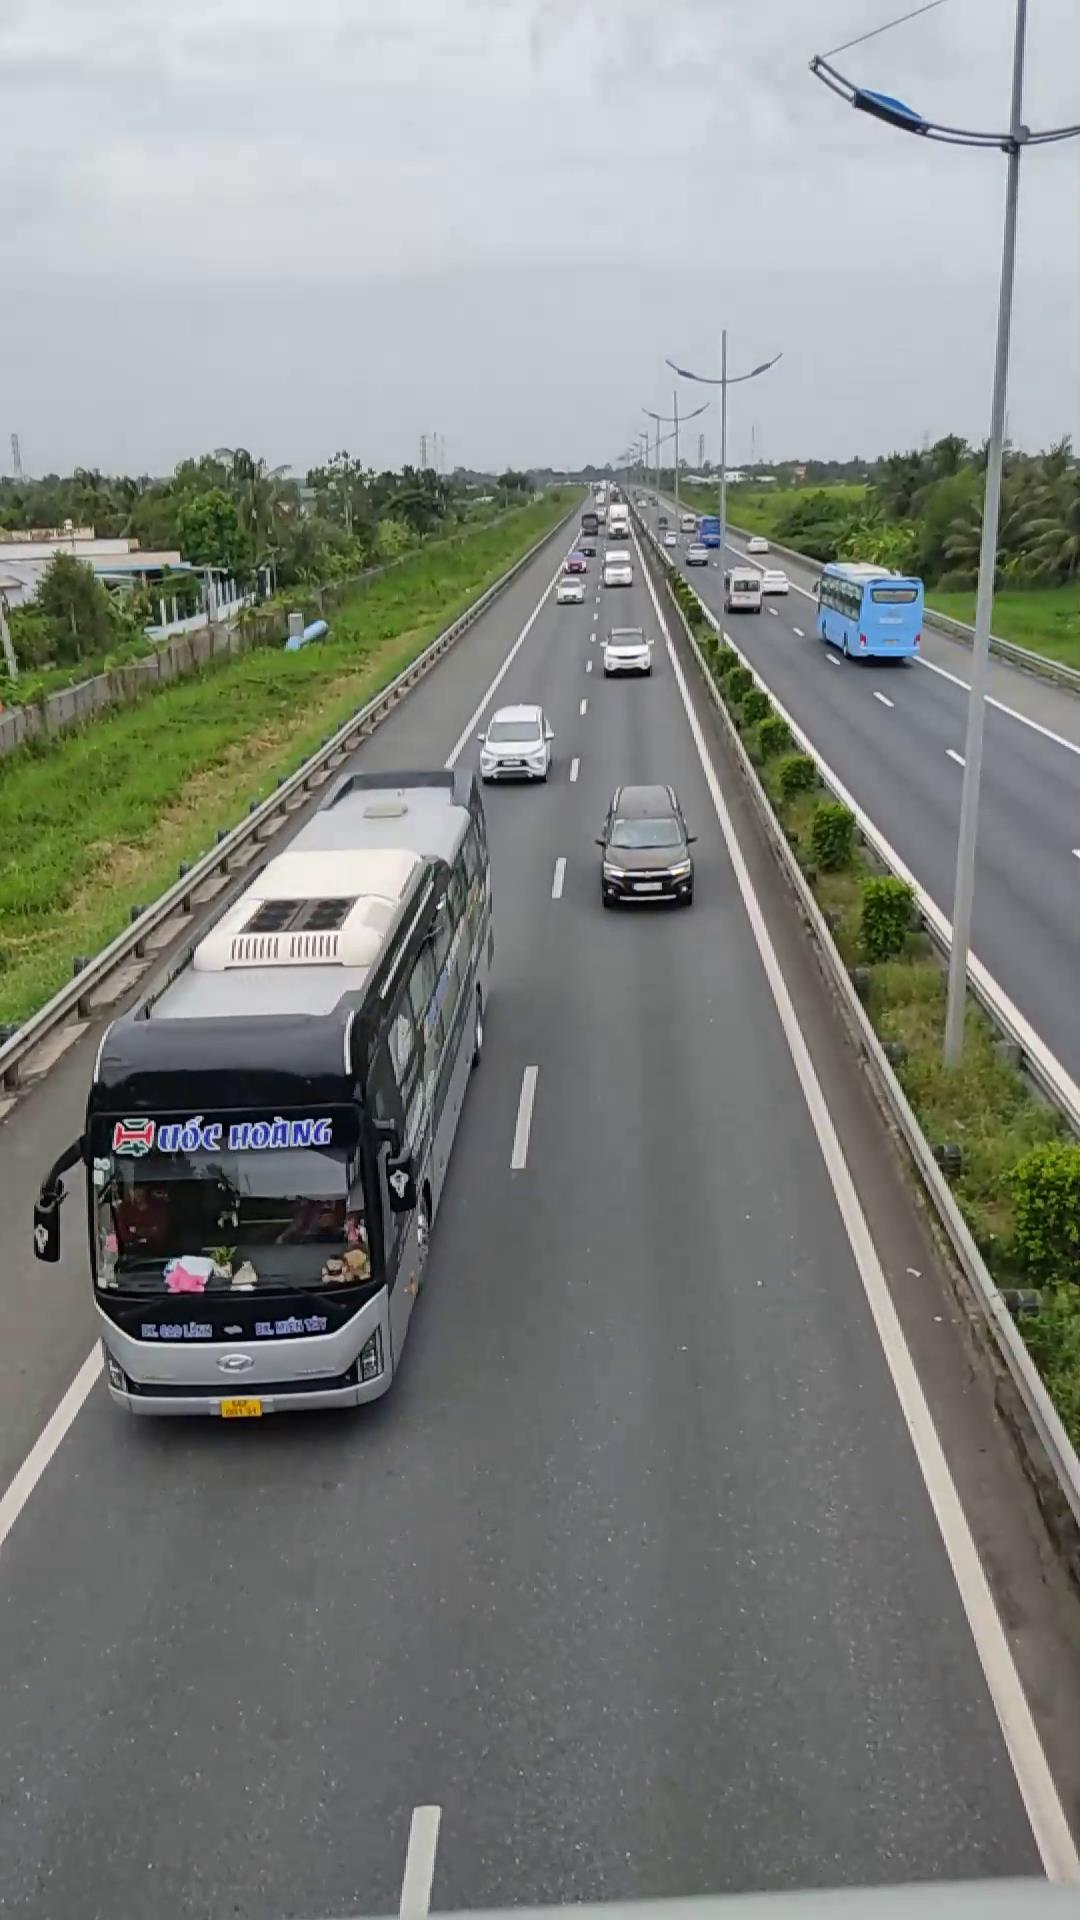bus: (77, 770, 493, 1417)
car: (475, 703, 554, 782)
